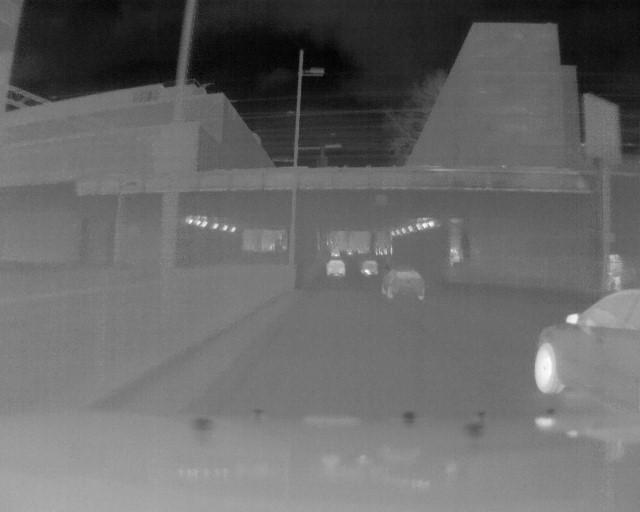car: (532, 283, 640, 414), (381, 268, 428, 302), (325, 259, 346, 277), (360, 259, 379, 277)
person: (605, 251, 622, 301)
